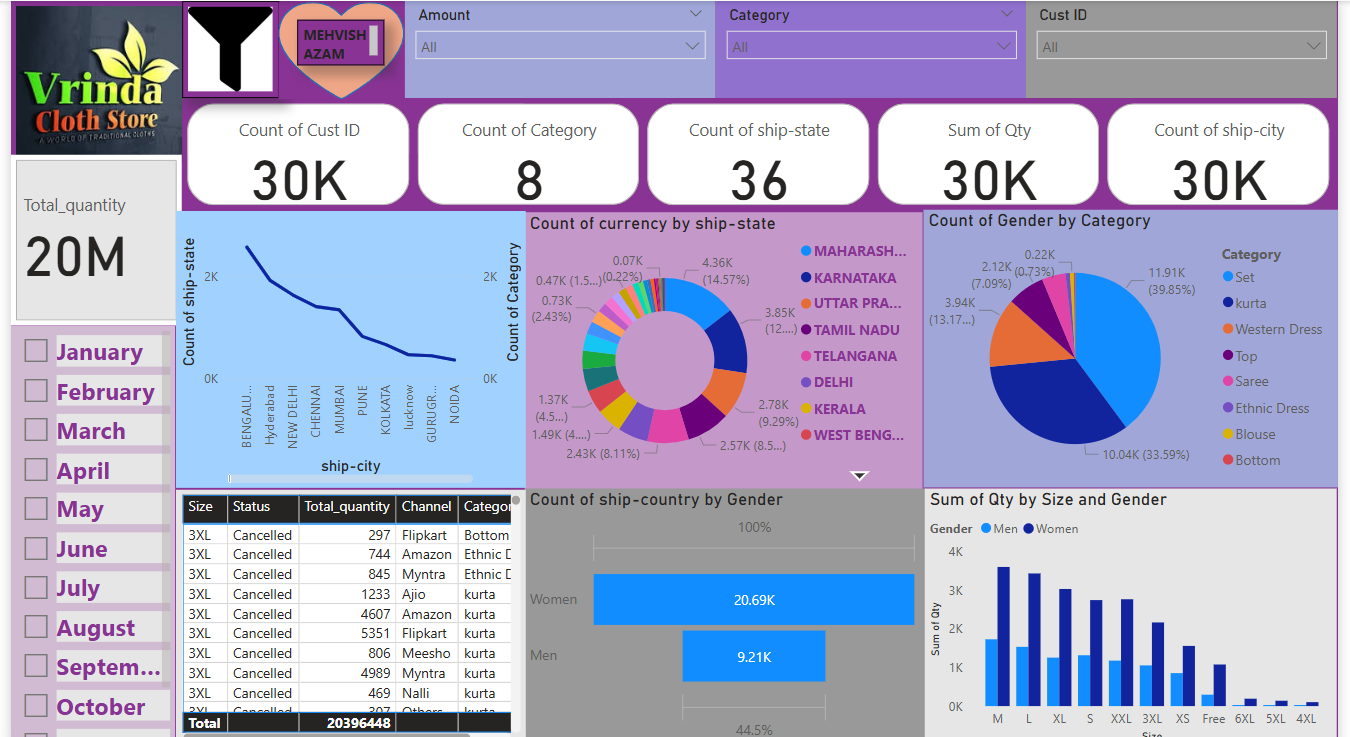

The page's visual inventory and layout, read from the dashboard file:
{"tool":"powerbi","page":{"name":"Page 1","canvas":[1280,720],"ordinal":0},"visuals":[{"type":"image","box":[0,0,173.8,160],"z":5},{"type":"slicer","fields":{"Values":["date 01.date 01.Variation.Date Hierarchy.Month"]},"box":[0,313.8,158.8,406.2],"z":7},{"type":"cardVisual","fields":{"Data":["Data analysis.Total_quantity"]},"box":[0,148.8,165,165],"z":8},{"type":"cardVisual","fields":{"Data":["Data analysis.Cust ID","Data analysis.Category","Data analysis.ship-state","Data analysis.Qty","Data analysis.ship-city"]},"box":[165,93.8,1112.5,108.8],"z":9},{"type":"pieChart","fields":{"Y":["Data analysis.Gender"],"Category":["Data analysis.Category"]},"box":[880.5,201.9,399.7,267.9],"z":10},{"type":"donutChart","fields":{"Y":["Data analysis.currency"],"Category":["Data analysis.ship-state"]},"box":[496.2,203.8,383.8,267.5],"z":11},{"type":"funnel","fields":{"Category":["Data analysis.Gender"],"Y":["Data analysis.ship-country"]},"box":[496.2,470,386.2,250],"z":12},{"type":"clusteredColumnChart","fields":{"Category":["Data analysis.Size"],"Series":["Data analysis.Gender"],"Y":["Data analysis.Qty"]},"box":[882.5,470,397.5,250],"z":13},{"type":"tableEx","fields":{"Values":["Data analysis.Size","Data analysis.Status","Data analysis.Total_quantity","Data analysis.Channel ","Data analysis.Category"]},"box":[158.8,471.2,337.5,248.8],"z":15},{"type":"slicer","fields":{"Values":["Data analysis.Amount"]},"box":[380,0,300,93.8],"z":16},{"type":"slicer","fields":{"Values":["Data analysis.Category"]},"box":[680,0,300,93.8],"z":17},{"type":"slicer","fields":{"Values":["Data analysis.Cust ID"]},"box":[980,0,300,93.8],"z":18},{"type":"image","box":[165,0,93.8,93.8],"z":19},{"type":"shape","box":[258.8,1.2,121.2,93.8],"z":20},{"type":"textbox","box":[276.2,17.5,83.8,43.8],"z":21},{"type":"lineChart","fields":{"Category":["Data analysis.ship-city"],"Y":["Data analysis.ship-state"],"Y2":["Data analysis.Category"]},"box":[158.8,202.5,337.5,267.5],"z":22}]}

Visuals, with their boxes in screenshot pixels (x1, y1, x2, y2):
image: 4 0 186 164
slicer - date 01.date 01.Variation.Date Hierarchy.Month: 4 325 170 736
cardVisual - Data analysis.Total_quantity: 4 152 177 325
cardVisual - Data analysis.Cust ID x Data analysis.Category: 177 95 1343 209
pieChart - Data analysis.Gender x Data analysis.Category: 927 208 1346 489
donutChart - Data analysis.currency x Data analysis.ship-state: 524 210 926 491
funnel - Data analysis.Gender x Data analysis.ship-country: 524 489 929 736
clusteredColumnChart - Data analysis.Size x Data analysis.Gender: 929 489 1345 736
tableEx - Data analysis.Size x Data analysis.Status: 170 490 524 736
slicer - Data analysis.Amount: 402 0 716 95
slicer - Data analysis.Category: 716 0 1031 95
slicer - Data analysis.Cust ID: 1031 0 1345 95
image: 177 0 275 95
shape: 275 0 402 96
textbox: 293 15 381 61
lineChart - Data analysis.ship-city x Data analysis.ship-state: 170 209 524 489
